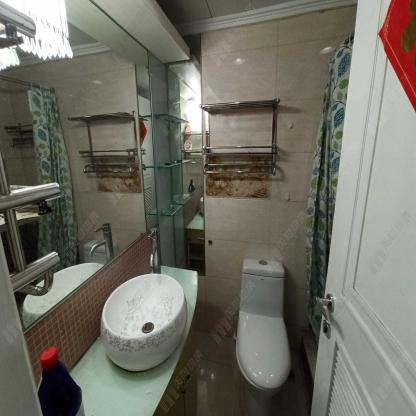Faucet: (147, 225, 162, 279)
Toilet: (234, 258, 292, 415)
Toilet Sink: (101, 276, 187, 371)
